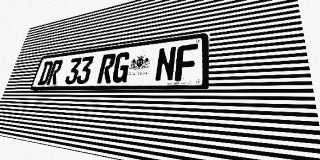3: (75, 56, 94, 84), (64, 57, 82, 84)
D: (37, 61, 54, 85)
F: (174, 43, 198, 81)
G: (111, 51, 132, 83)
N: (154, 46, 177, 82)
R: (97, 53, 117, 83), (46, 59, 64, 85)
